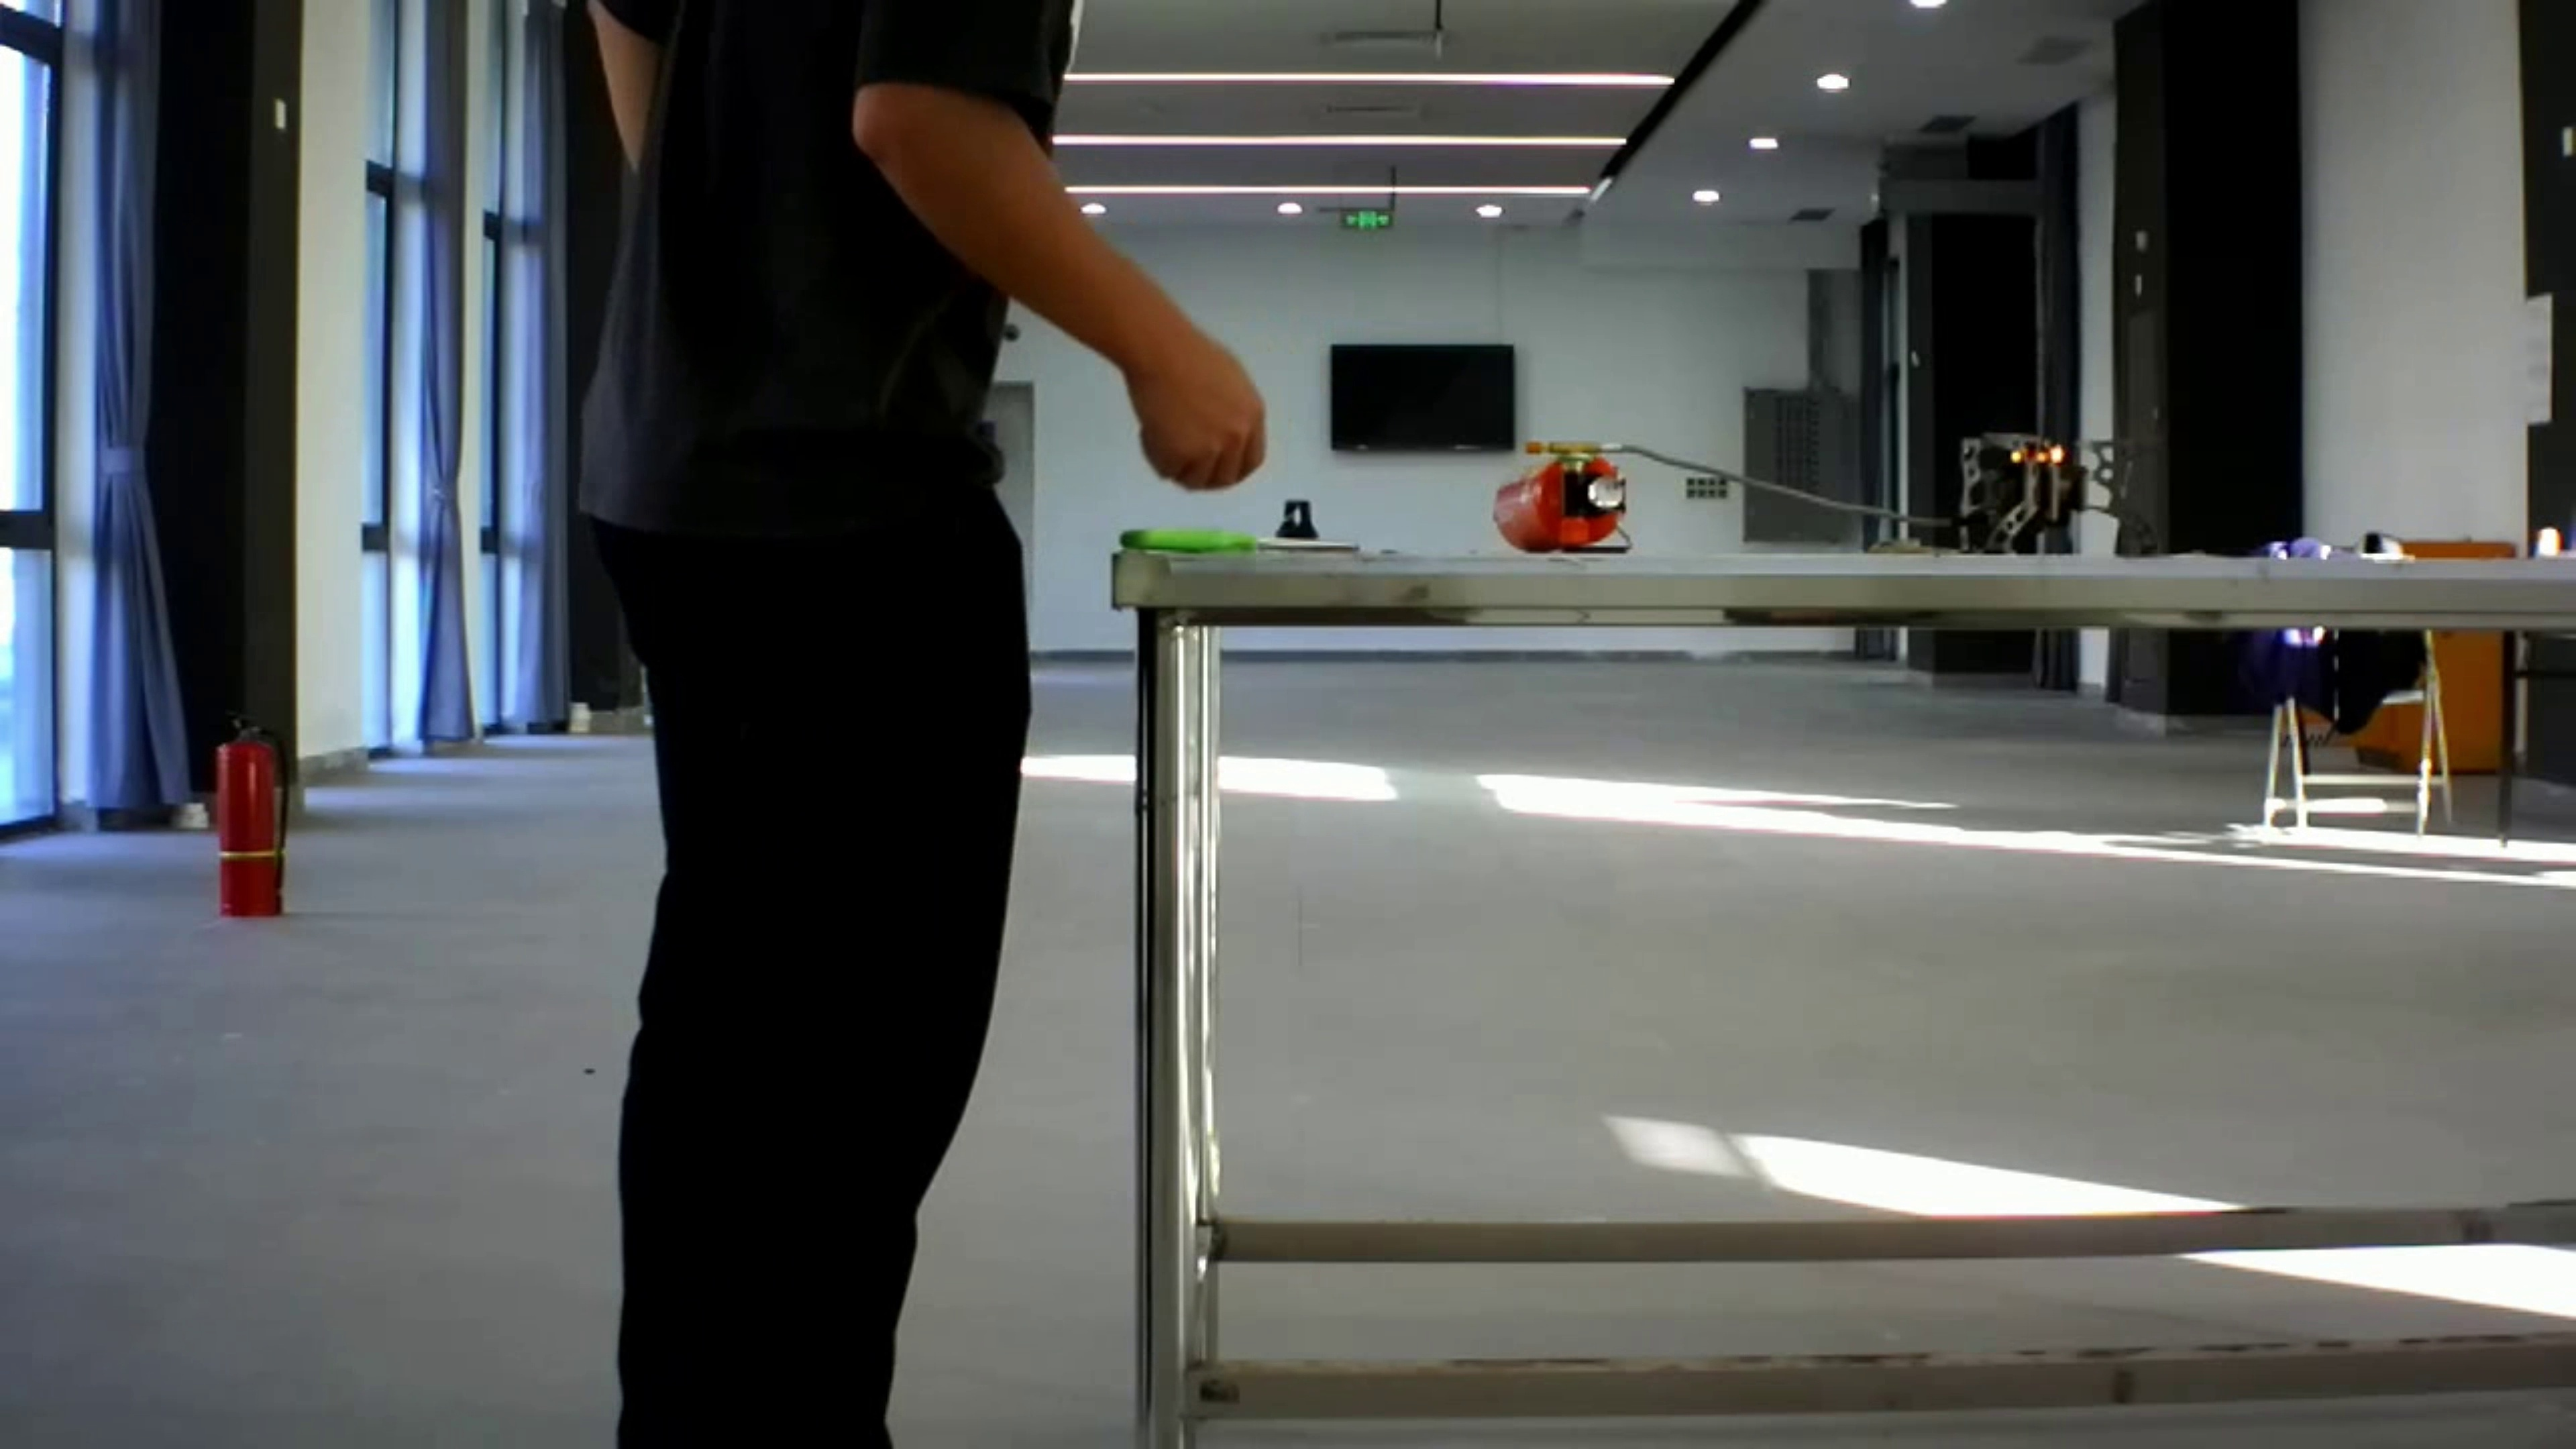Fire: (1996, 421, 2093, 481)
